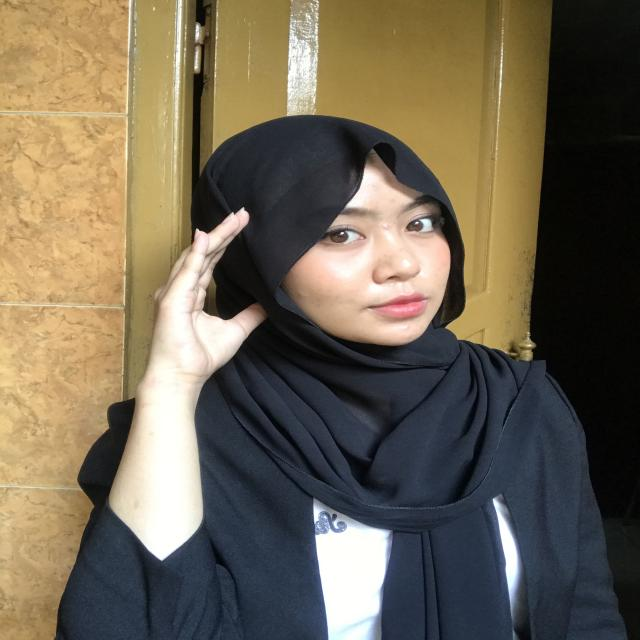mendengar: (144, 191, 295, 383)
